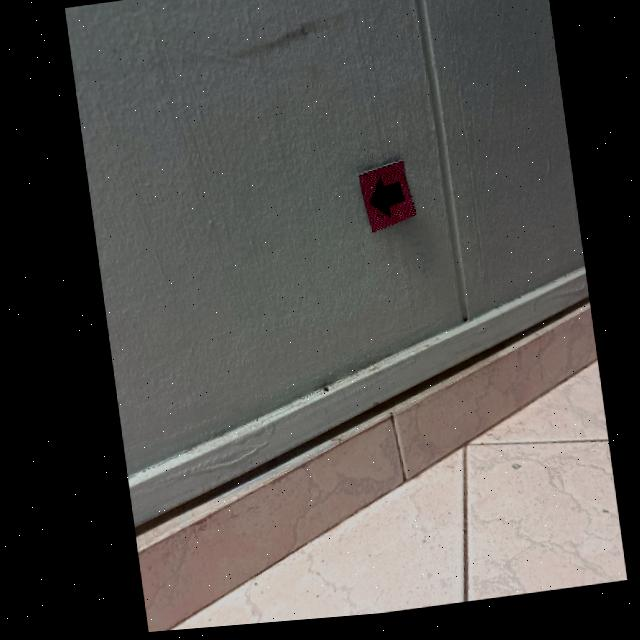LEFT: (366, 179, 400, 223)
